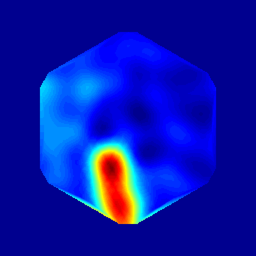ship: (97, 117, 118, 147)
wave: (96, 139, 124, 201)
